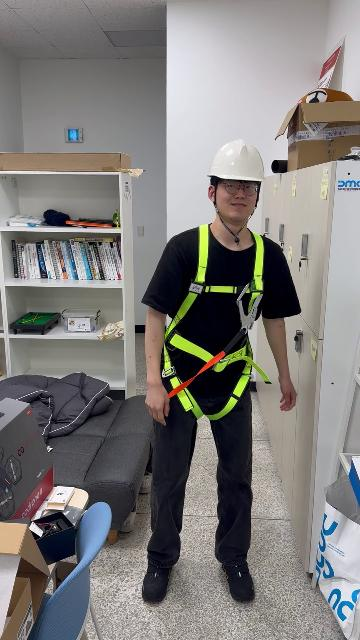helmet_worn: (207, 138, 261, 186)
shoe_worn: (141, 561, 173, 603), (223, 562, 254, 602)
vest_worn: (159, 230, 266, 415)
